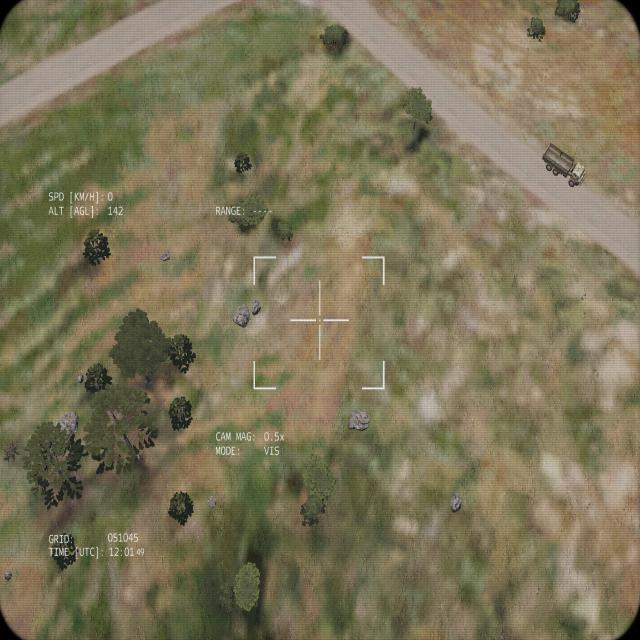truck: (540, 142, 587, 189)
